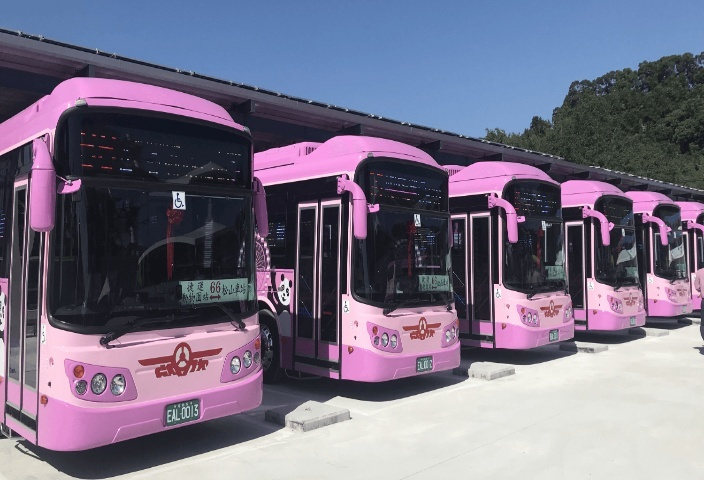bus: (2, 53, 273, 464), (251, 126, 471, 386), (440, 145, 581, 369), (555, 179, 650, 347), (616, 181, 695, 334)
